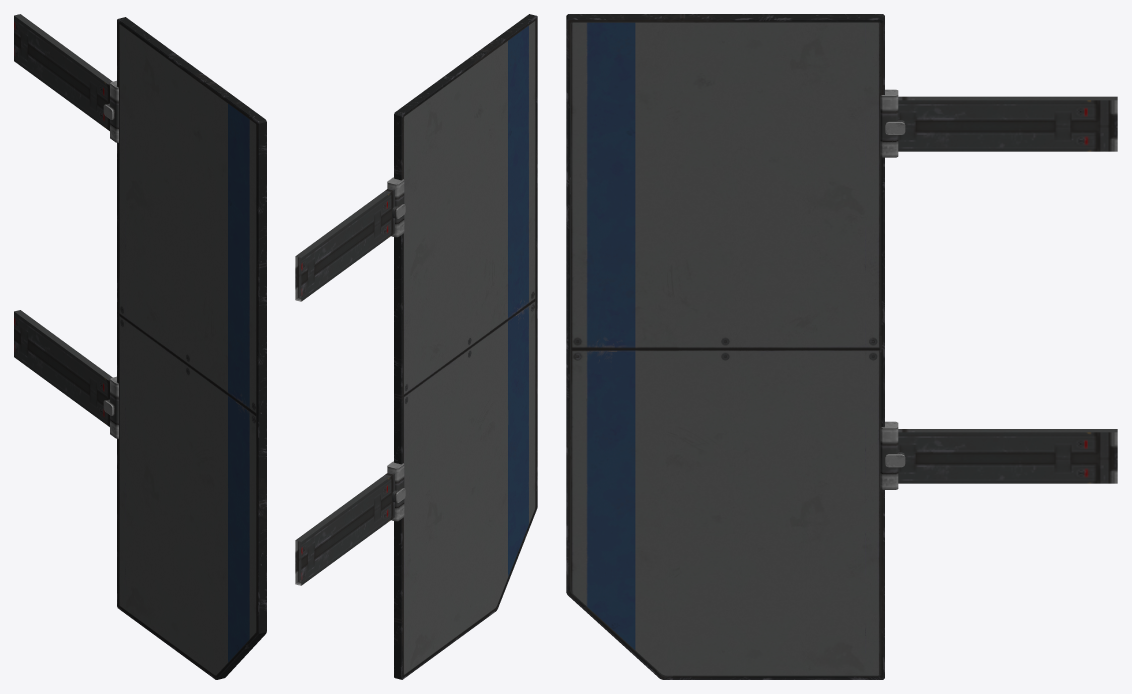
Rendered from Subway_Wall_el3.fbx.
3 views of the same model, side by side, from view 1: azimuth 30°, elevation 25°; view 2: azimuth 150°, elevation 25°; view 3: azimuth 270°, elevation 25° (orthographic). The views are drawn at different scales.
Visible parts, largest first — view 1: polySurface309; view 2: polySurface309; view 3: polySurface309.
Part boxes in pixels (x1,y1,x2,y2): polySurface309: (14, 14, 266, 679); polySurface309: (295, 14, 537, 679); polySurface309: (566, 14, 1117, 679).
Size of the model in its own units: 8.9 by 299 by 226.
